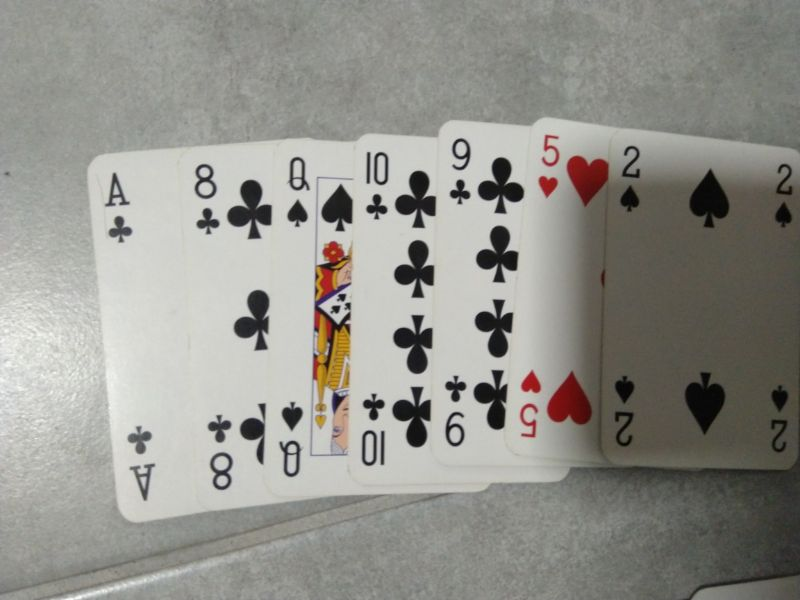2s: (604, 365, 643, 455), (612, 136, 650, 222), (762, 376, 796, 459), (766, 153, 800, 230)
5h: (509, 361, 546, 449), (530, 127, 570, 201)
8c: (184, 154, 229, 242), (199, 405, 243, 495)
9c: (435, 368, 476, 455), (445, 131, 480, 213)
Ac: (118, 414, 170, 509), (94, 159, 144, 251)
Qs: (269, 395, 312, 487), (282, 144, 319, 236)
Tc: (353, 387, 395, 478), (360, 139, 395, 229)
